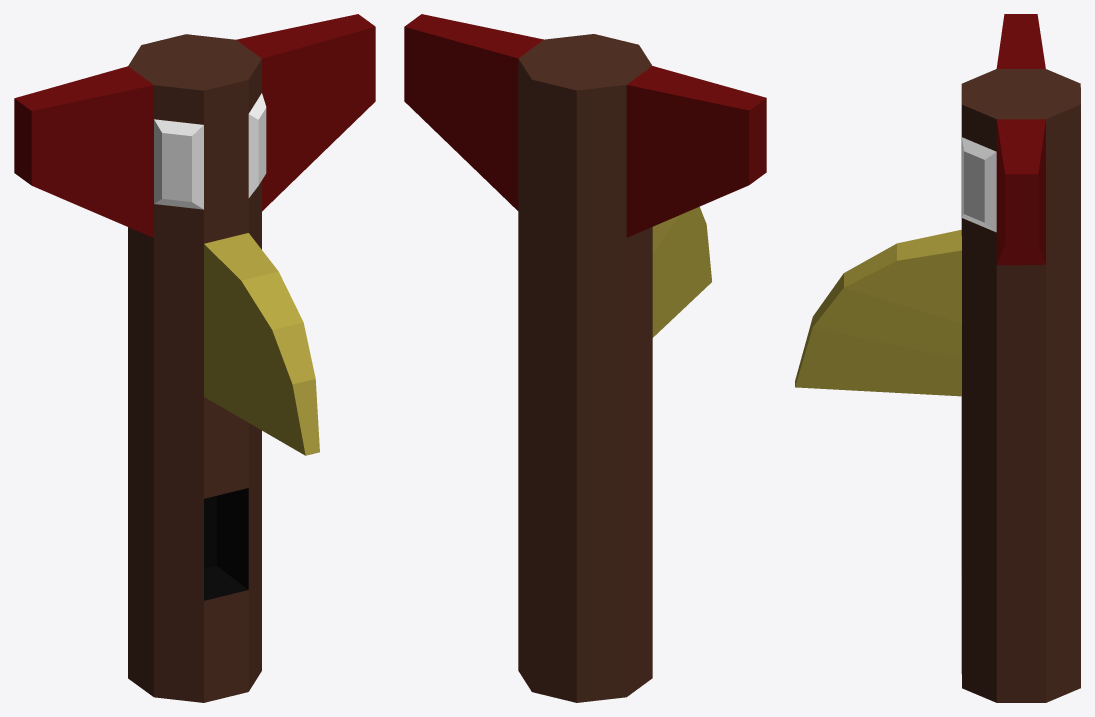
The model's file is Totem.FBX.
3 views of the same model, side by side, from view 1: azimuth 30°, elevation 25°; view 2: azimuth 150°, elevation 25°; view 3: azimuth 270°, elevation 25° (orthographic). The views are drawn at different scales.
Parts seen in each view (by area): view 1: Cylinder001; view 2: Cylinder001; view 3: Cylinder001.
Part boxes in pixels (left/top/right/bottom): Cylinder001: left=14, top=14, right=375, bottom=702; Cylinder001: left=404, top=14, right=766, bottom=702; Cylinder001: left=795, top=14, right=1080, bottom=702.
Size of the model in its own units: 47.11 by 80 by 35.5.
